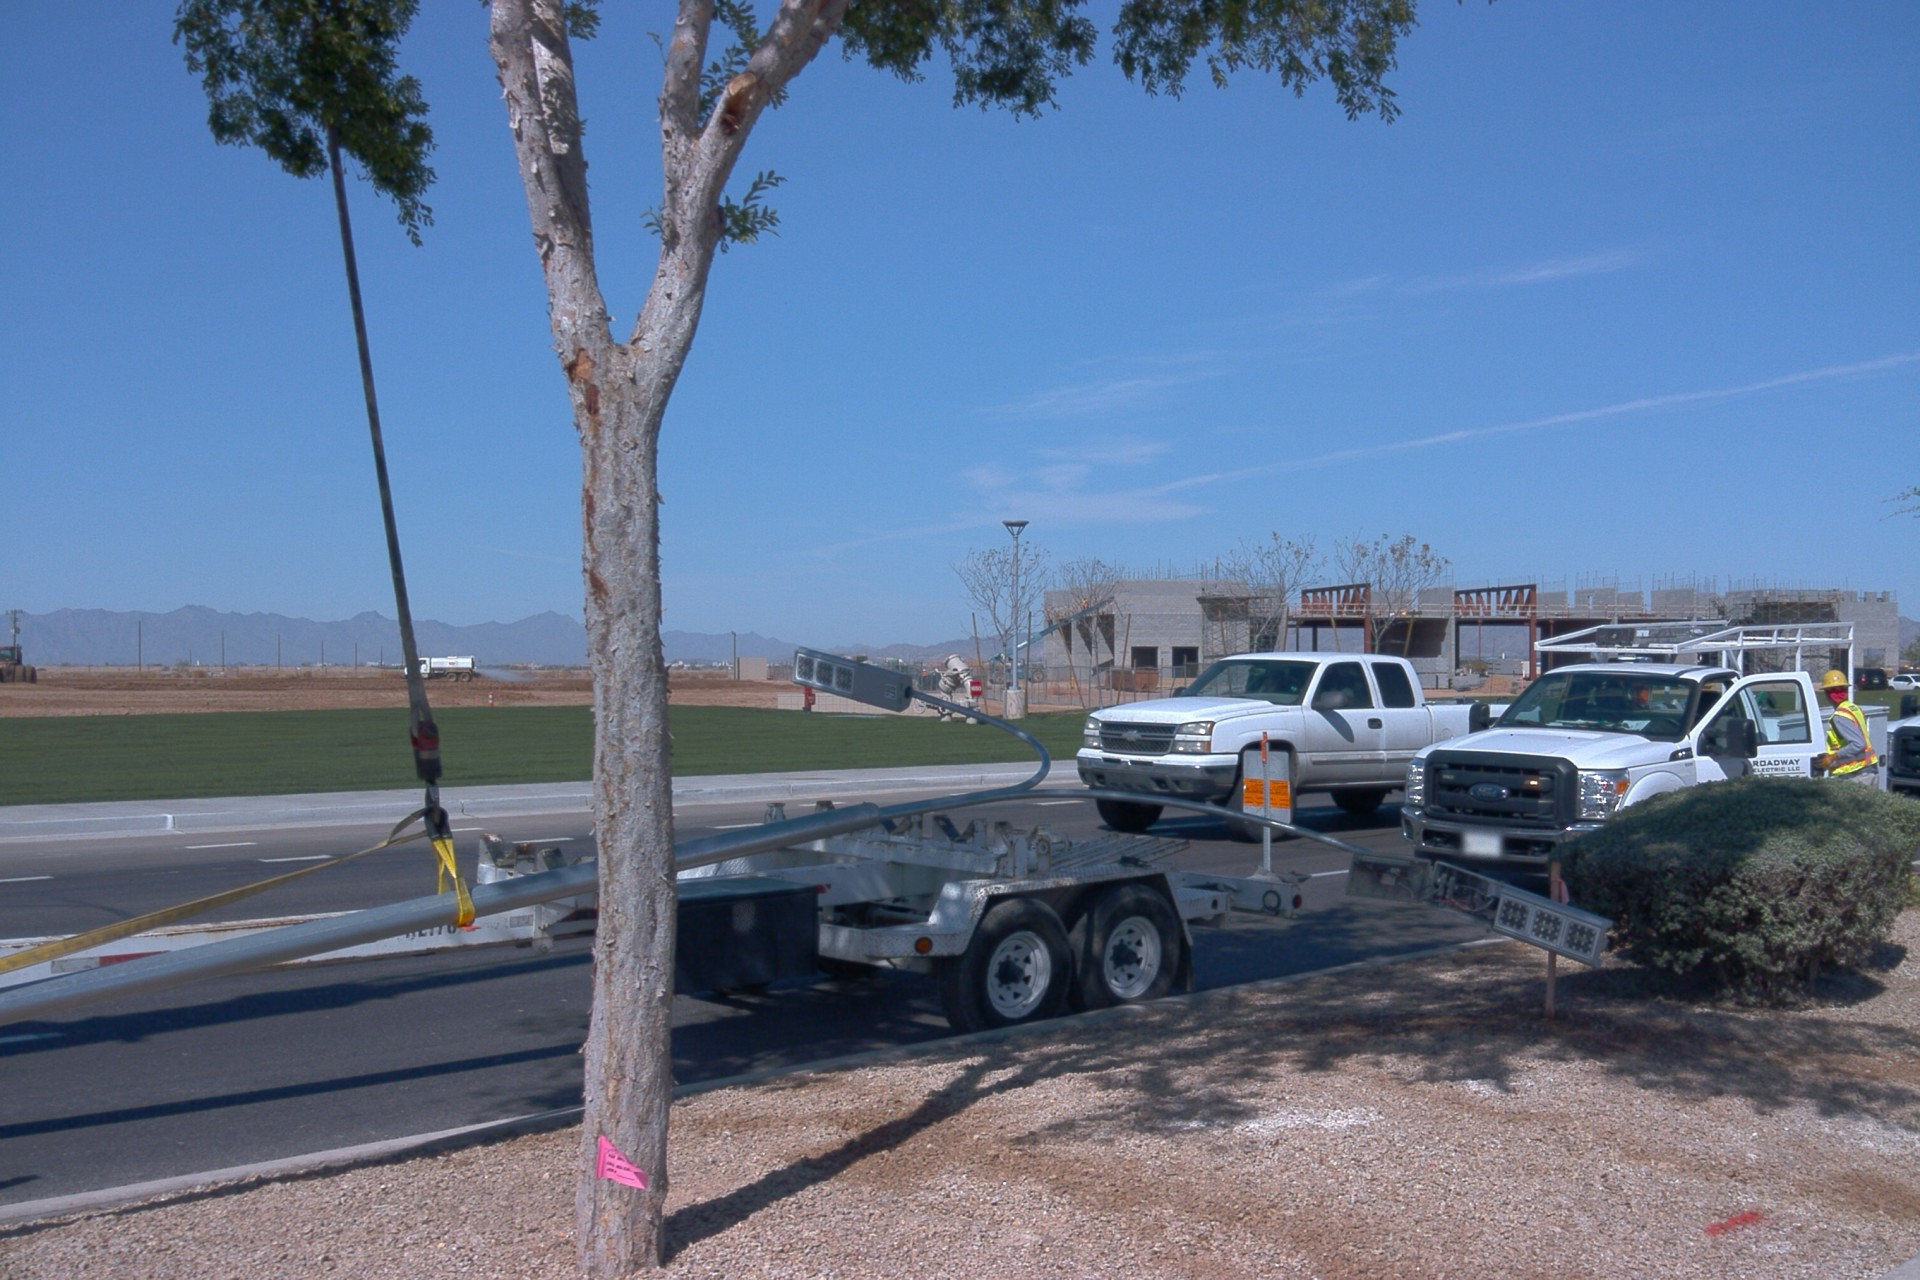TYPE_PEDESTRIAN: (1815, 664, 1878, 786)
TYPE_VEHICLE: (0, 761, 1305, 1050), (1390, 612, 1890, 903), (1071, 652, 1538, 835), (986, 594, 1128, 683), (1881, 705, 1920, 801), (401, 650, 480, 686), (1842, 670, 1891, 694), (1884, 675, 1920, 692)
